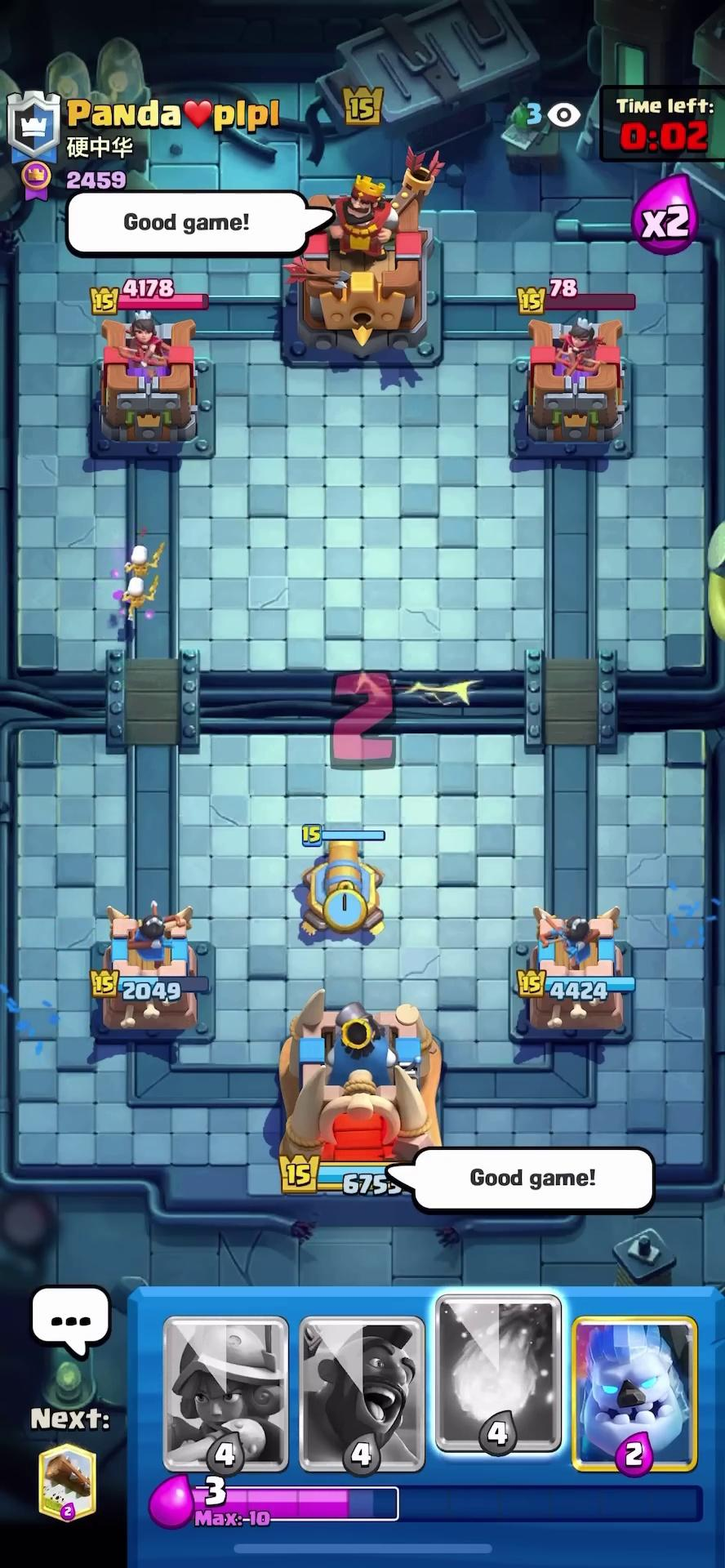cannon: (290, 833, 390, 941)
skeletons: (114, 539, 159, 627)
